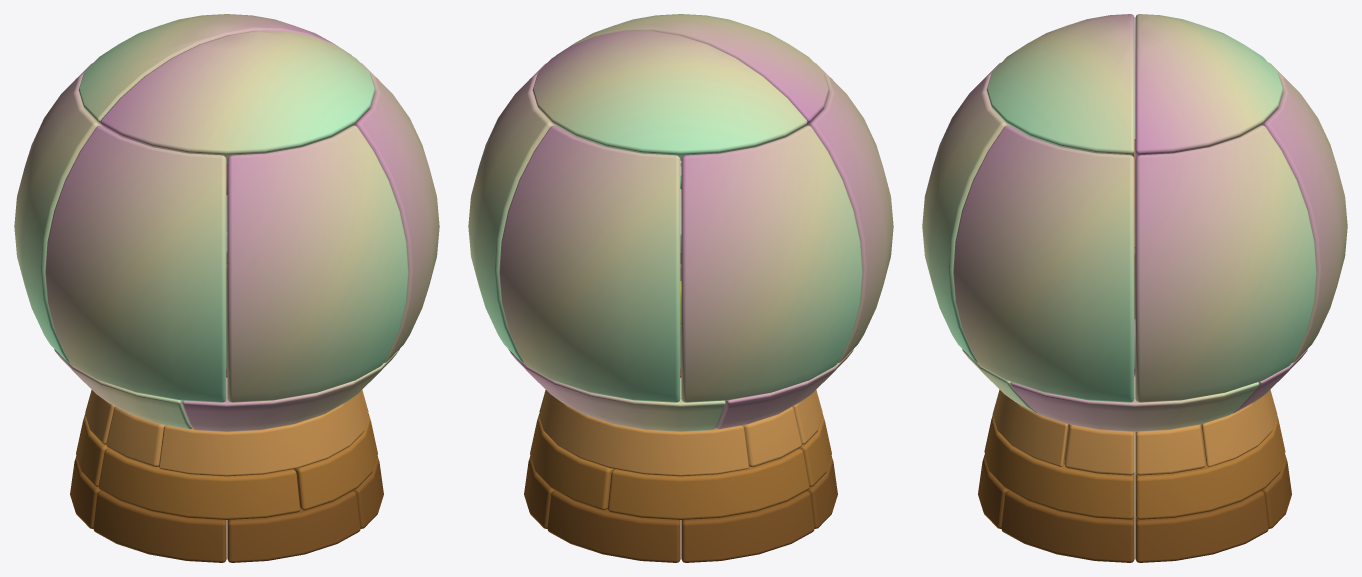
Rendered from Level_StarBall_4.fbx.
The picture shows the model from 3 angles, left to right: view 1: azimuth 30°, elevation 25°; view 2: azimuth 150°, elevation 25°; view 3: azimuth 270°, elevation 25°; orthographic projection.
Visible parts, largest first — view 1: StarBall_08, StarBall_03, StarBall_01, StarBall_14, StarBall_04, StarBall_07, StarBall_19, StarBall_02, StarBall_24, StarBall_25, StarBall_12, StarBall_20 (+6 smaller); view 2: StarBall_06, StarBall_07, StarBall_02, StarBall_13, StarBall_08, StarBall_05, StarBall_18, StarBall_01, StarBall_21, StarBall_26, StarBall_10, StarBall_17 (+6 smaller); view 3: StarBall_04, StarBall_05, StarBall_02, StarBall_01, StarBall_06, StarBall_03, StarBall_17, StarBall_20, StarBall_09, StarBall_22, StarBall_23, StarBall_13 (+7 smaller).
Part boxes in pixels (<box>): StarBall_08: <box>45,125,226,402</box>; StarBall_03: <box>227,125,408,402</box>; StarBall_01: <box>100,30,375,160</box>; StarBall_14: <box>159,390,368,476</box>; StarBall_04: <box>352,63,439,362</box>; StarBall_07: <box>14,63,102,362</box>; StarBall_19: <box>98,448,299,519</box>; StarBall_02: <box>78,14,351,127</box>; StarBall_24: <box>227,491,360,562</box>; StarBall_25: <box>93,491,226,562</box>; StarBall_12: <box>182,351,397,431</box>; StarBall_20: <box>294,413,377,510</box>; StarBall_06: <box>499,125,680,402</box>; StarBall_07: <box>681,125,862,402</box>; StarBall_02: <box>532,30,807,160</box>; StarBall_13: <box>539,390,748,476</box>; StarBall_08: <box>805,63,893,362</box>; StarBall_05: <box>468,63,555,362</box>; StarBall_18: <box>608,448,809,519</box>; StarBall_01: <box>556,14,829,126</box>; StarBall_21: <box>547,491,680,562</box>; StarBall_26: <box>681,491,814,562</box>; StarBall_10: <box>510,351,725,431</box>; StarBall_17: <box>530,413,613,510</box>; StarBall_04: <box>953,125,1134,402</box>; StarBall_05: <box>1135,125,1316,402</box>; StarBall_02: <box>1135,14,1283,157</box>; StarBall_01: <box>986,14,1134,157</box>; StarBall_06: <box>1260,62,1347,362</box>; StarBall_03: <box>922,63,1009,362</box>; StarBall_17: <box>1135,420,1285,519</box>; StarBall_20: <box>984,420,1134,519</box>; StarBall_09: <box>1010,376,1259,431</box>; StarBall_22: <box>1135,472,1268,562</box>; StarBall_23: <box>1001,472,1134,562</box>; StarBall_13: <box>1201,389,1277,466</box>.
Bounding box in the file's own units: 4.26 × 5.15 × 4.27.
